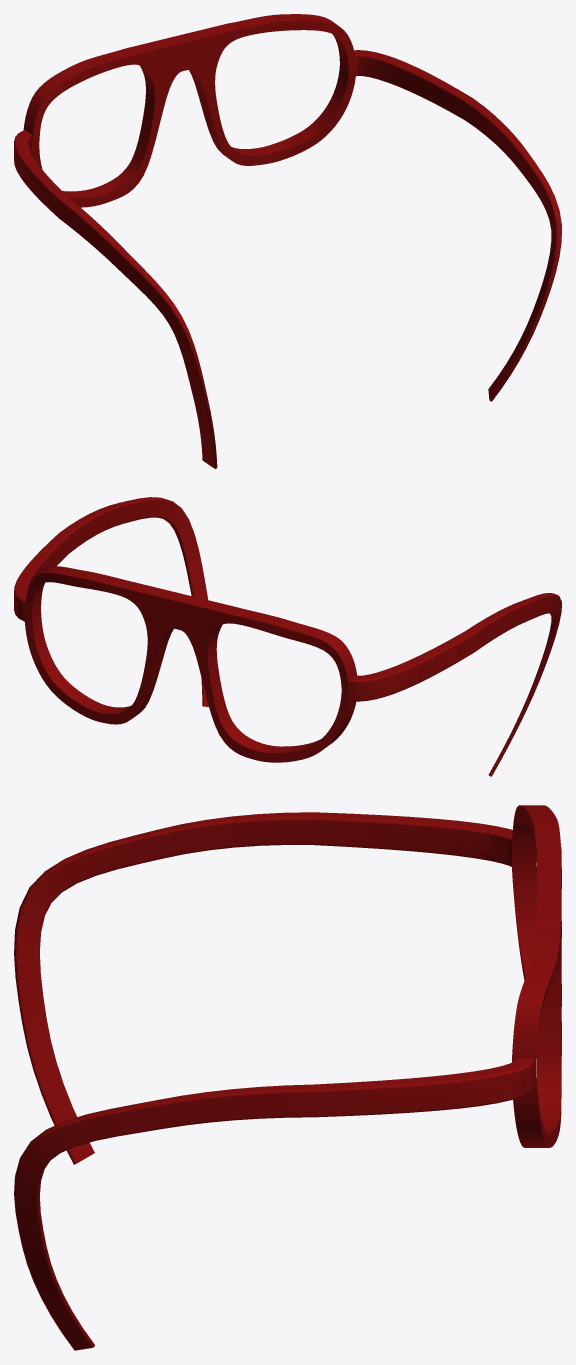
The model's file is glass-leon-4_5.obj.
The picture shows the model from 3 angles, top to bottom: view 1: azimuth 30°, elevation 25°; view 2: azimuth 150°, elevation 25°; view 3: azimuth 270°, elevation 25°; orthographic projection. The views are drawn at different scales.
Visible parts, largest first — view 1: Loft016; view 2: Loft016; view 3: Loft016.
Boxes of the visible parts, x1,y1,x2,y2 form: Loft016: [14, 14, 561, 468]; Loft016: [14, 497, 561, 776]; Loft016: [14, 805, 561, 1350].
Bounding box in the file's own units: 133 × 82.78 × 111.
